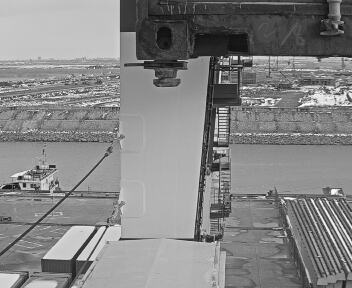twist_lock_1: (98, 163, 207, 233)
